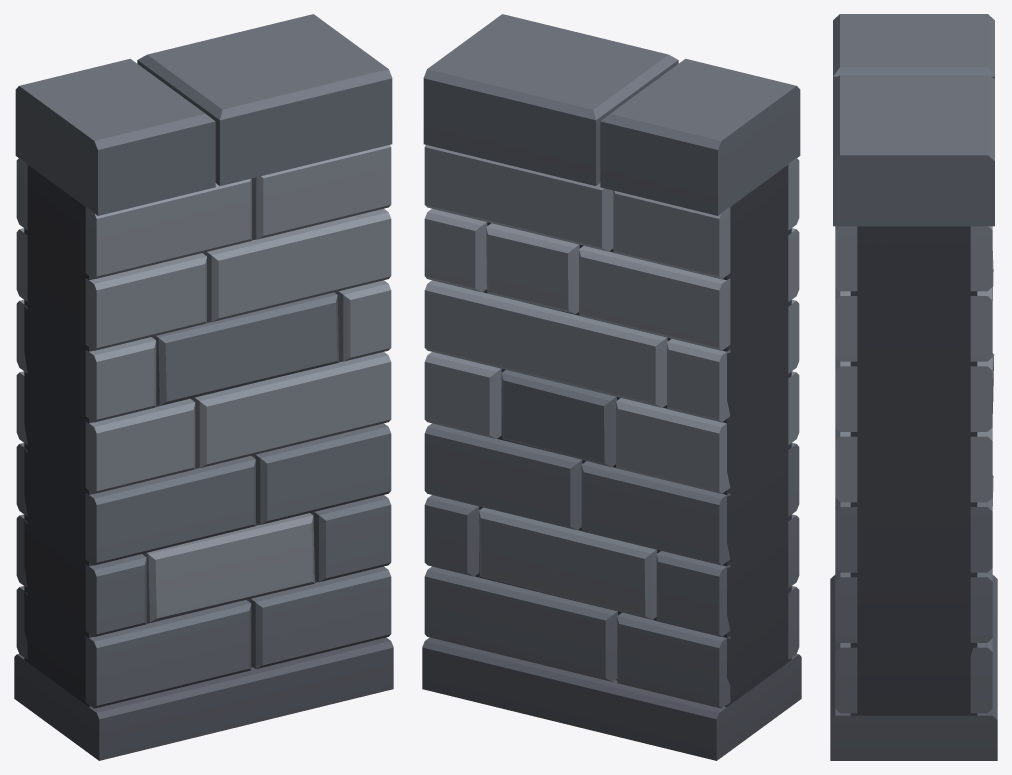
Rendered from wall_ashlar_half_B.glb.
3 views of the same model, side by side, from view 1: azimuth 30°, elevation 25°; view 2: azimuth 150°, elevation 25°; view 3: azimuth 270°, elevation 25° (orthographic).
Parts seen in each view (by area): view 1: Item; view 2: Item; view 3: Item.
Boxes of the visible parts, x1,y1,x2,y2 form: Item: (14, 14, 393, 760); Item: (422, 14, 801, 760); Item: (830, 14, 997, 760).
Size of the model in its own units: 2 by 4 by 1.
Materials: 1 (1 with a texture image).
